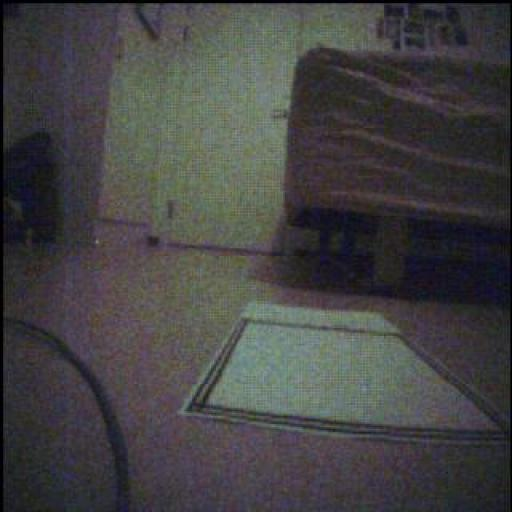pad: (182, 304, 510, 443)
